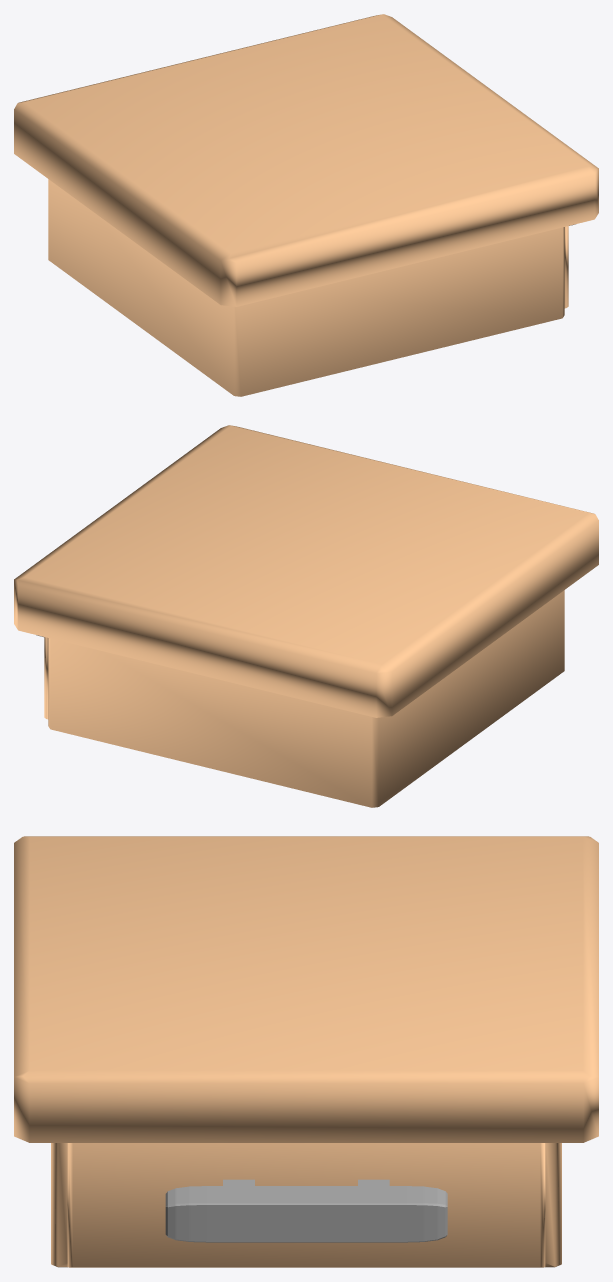
The model's file is M6BO_Model_Counter.fbx.
3 renders of one model, top to bottom at view 1: azimuth 30°, elevation 25°; view 2: azimuth 150°, elevation 25°; view 3: azimuth 270°, elevation 25°, orthographic. The views are drawn at different scales.
Visible parts, largest first — view 1: Counter; view 2: Counter; view 3: Counter.
Part boxes in pixels (x1,y1,x2,y2): Counter: [14, 14, 598, 396]; Counter: [14, 425, 598, 807]; Counter: [14, 836, 598, 1267].
Size of the model in its own units: 291 by 105 by 268.
